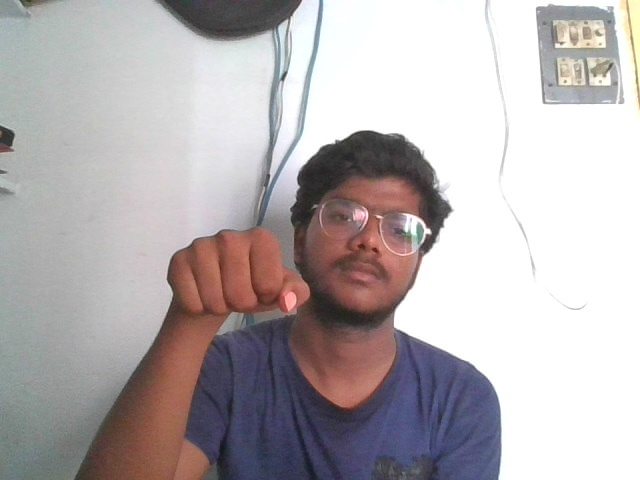Yes: (160, 219, 312, 322)
